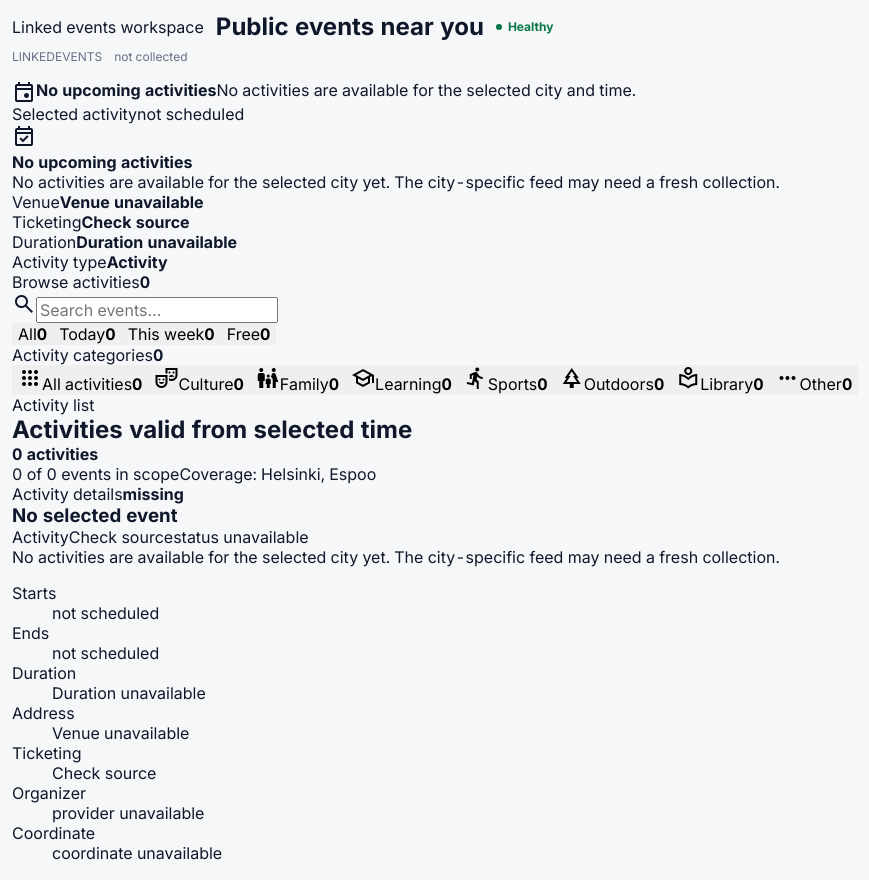
Test case: LinkedEventsWorkspace selection semantics › clears an active time filter from a zero-result state
Click the button with aria-label "Today: 0". click: (87, 334)
box: [53,323,122,345]
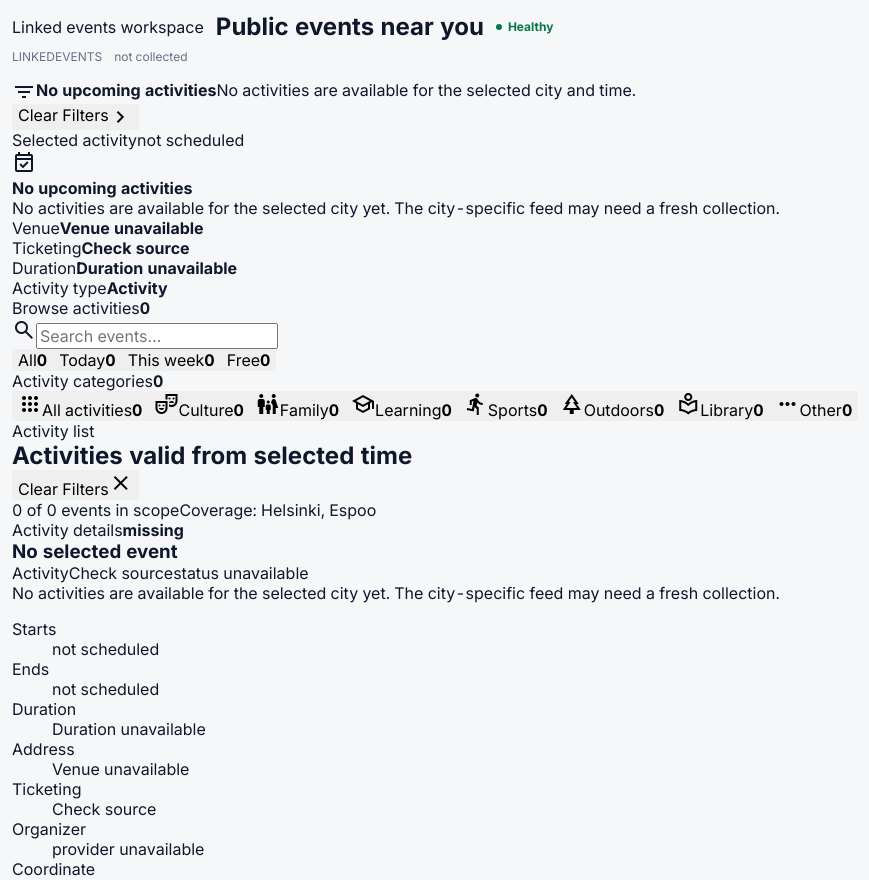
Expected: the number of buttons "Clear Filters" is 2
Expected: the 1st button "Clear Filters" is shown
Click the 1st button "Clear Filters". click: (75, 117)
box: [12,104,139,130]
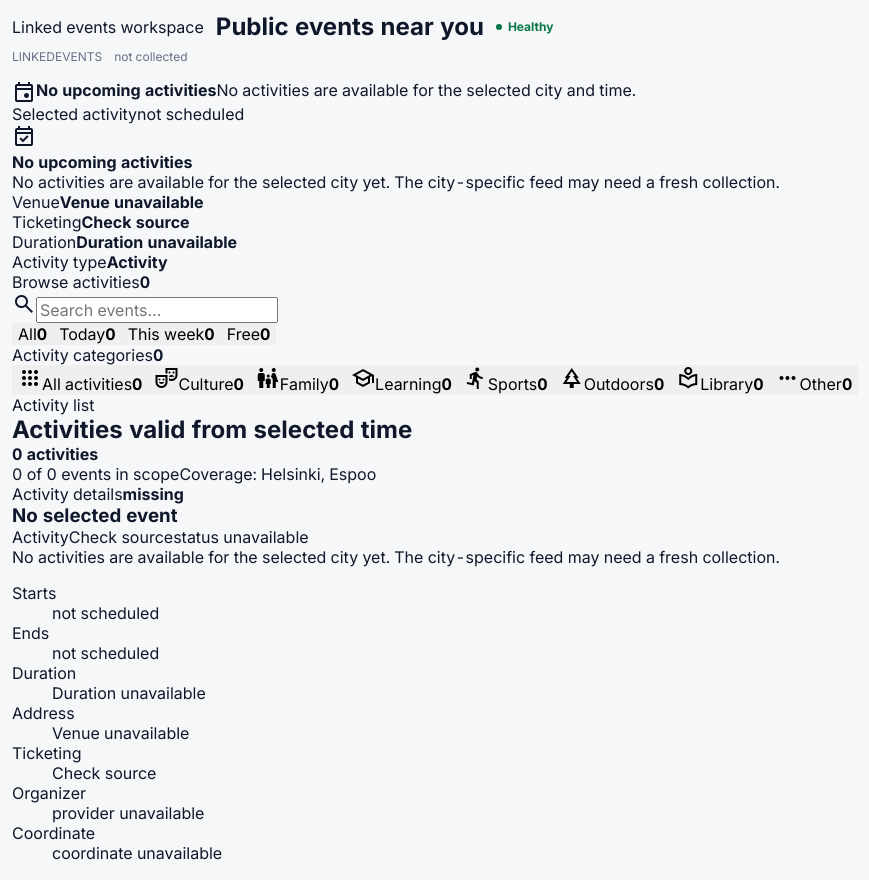
Expected: the button "Clear Filters" is gone
